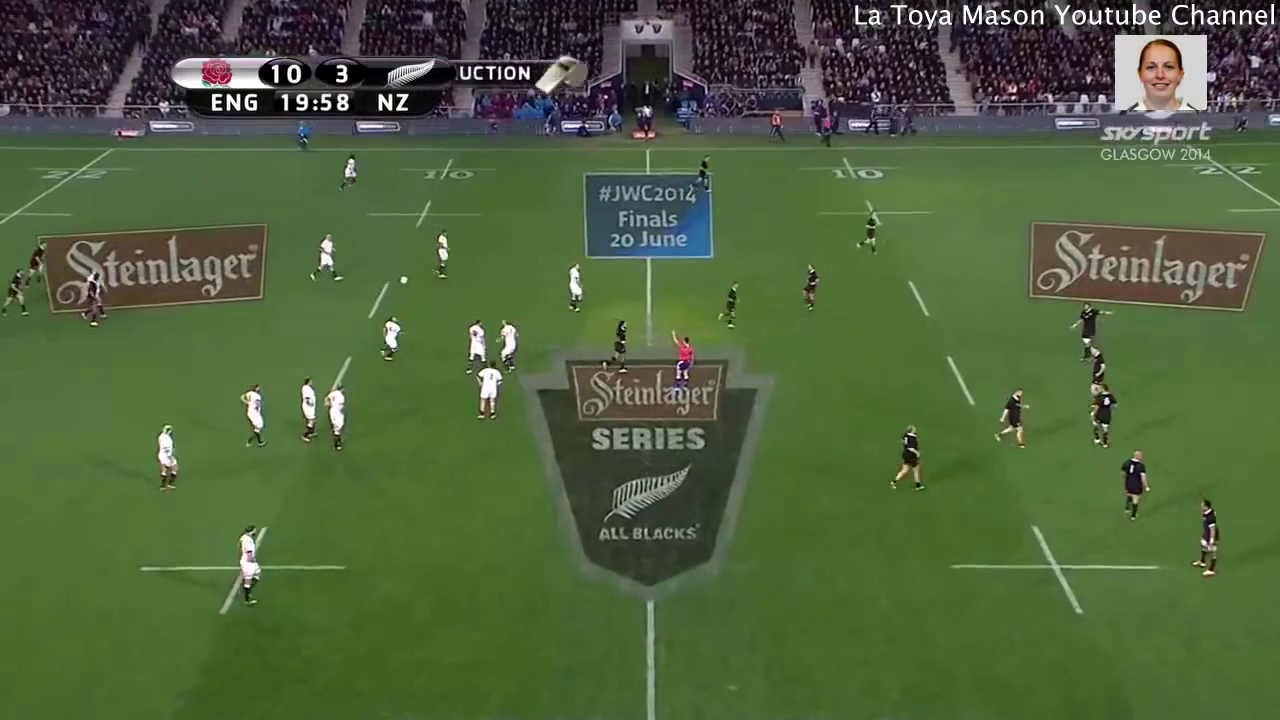10_metre: (937, 521, 1169, 617), (135, 523, 346, 621), (365, 199, 481, 228), (799, 156, 903, 187), (818, 201, 933, 228), (401, 158, 499, 185)
player: (885, 423, 931, 493), (990, 387, 1033, 453), (1117, 444, 1151, 521), (317, 380, 350, 458), (1065, 296, 1113, 349), (1085, 381, 1121, 451), (237, 380, 271, 453), (237, 525, 265, 611), (1192, 498, 1222, 577), (153, 419, 182, 500), (307, 232, 345, 287), (601, 320, 632, 378), (473, 359, 501, 421), (494, 317, 523, 375), (669, 328, 695, 388), (297, 375, 319, 444), (1, 265, 29, 319), (854, 212, 885, 258), (81, 266, 104, 328), (715, 281, 743, 331), (23, 239, 51, 286), (377, 313, 403, 363), (561, 259, 584, 315), (465, 316, 486, 376), (685, 153, 714, 196), (428, 229, 451, 281), (801, 259, 821, 310), (1083, 344, 1107, 384), (337, 152, 359, 194)
